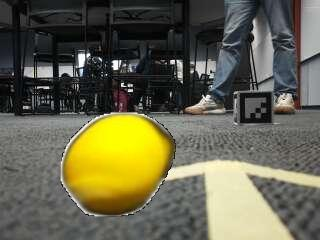lemon: (66, 115, 175, 215)
